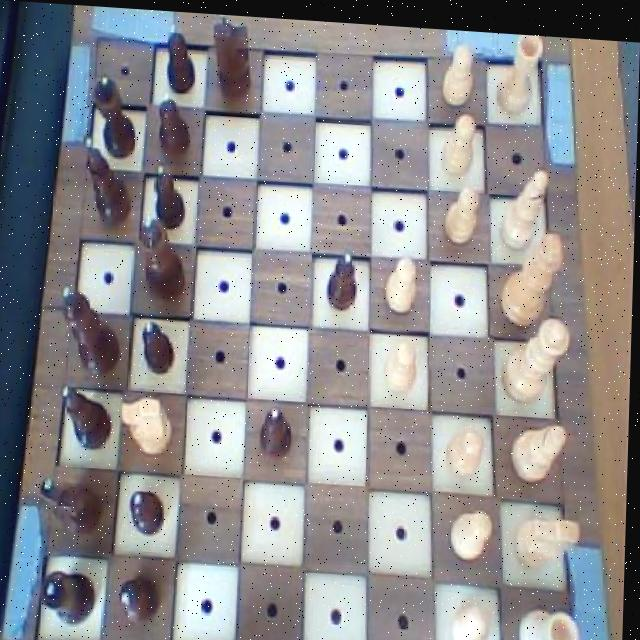bishop: (81, 132, 139, 228), (57, 379, 117, 455)
black-bishop: (55, 280, 125, 384)
black-king: (39, 470, 108, 545), (206, 11, 254, 102)
black-knight: (160, 16, 206, 98), (152, 86, 198, 161), (119, 565, 169, 629), (149, 158, 192, 229), (254, 398, 297, 462), (324, 239, 361, 309), (130, 481, 170, 539), (140, 315, 179, 374)
black-pawn: (137, 212, 193, 304)
black-queen: (85, 68, 139, 161), (39, 560, 102, 628)
black-rook: (497, 153, 554, 247), (509, 409, 573, 483)
white-bishop: (499, 222, 568, 327)
white-king: (511, 501, 586, 572), (120, 384, 180, 458)
white-knight: (435, 31, 481, 105), (438, 100, 481, 178), (440, 172, 486, 242), (379, 331, 427, 397), (450, 496, 499, 560), (444, 415, 489, 477), (383, 247, 422, 316), (451, 591, 493, 640)
white-pawn: (499, 302, 578, 404)
white-queen: (492, 26, 549, 115), (519, 594, 587, 640)
